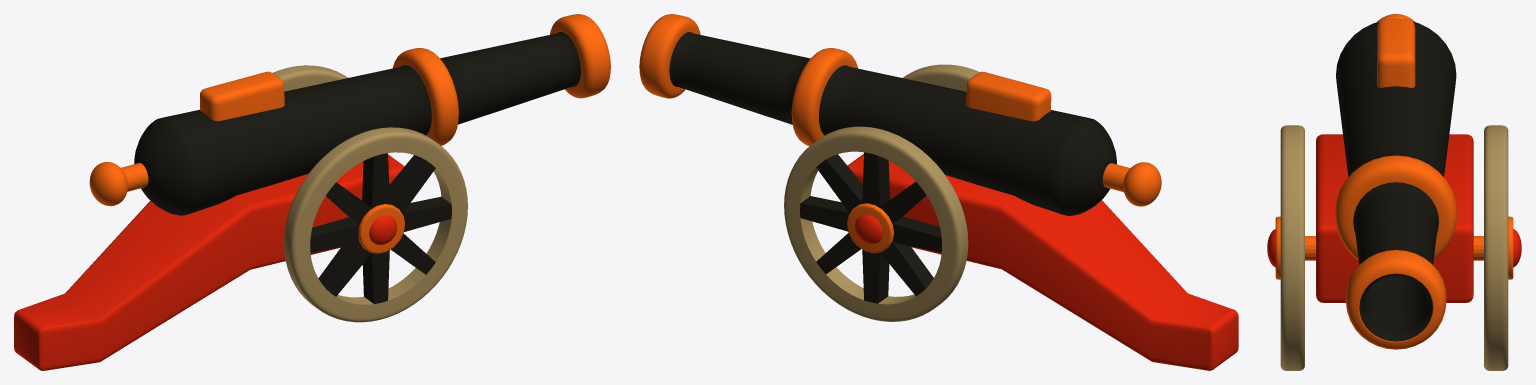
The picture shows the model from 3 angles, left to right: view 1: azimuth 30°, elevation 25°; view 2: azimuth 150°, elevation 25°; view 3: azimuth 270°, elevation 25°; orthographic projection. The views are drawn at different scales.
Parts seen in each view (by area): view 1: Cylinder101, Box032, Tube044, Group140, Group142, Box033, Sphere106, Cylinder099, Tube045, Sphere104; view 2: Cylinder101, Box032, Tube045, Group141, Group142, Box033, Sphere106, Tube044, Cylinder100, Sphere105; view 3: Cylinder101, Box032, Group142, Tube044, Tube045, Box033, Cylinder099, Cylinder100, Sphere104, Sphere105.
Boxes of the visible parts, x1,y1,x2,y2 form: Cylinder101: (134, 32, 580, 215); Box032: (14, 154, 404, 370); Tube044: (284, 127, 467, 322); Group140: (310, 153, 451, 303); Group142: (392, 14, 610, 145); Box033: (200, 71, 284, 121); Sphere106: (89, 162, 148, 206); Cylinder099: (358, 204, 404, 253); Tube045: (273, 65, 347, 91); Sphere104: (369, 215, 396, 244); Cylinder101: (669, 32, 1116, 215); Box032: (847, 154, 1238, 370); Tube045: (784, 126, 968, 321); Group141: (800, 152, 941, 303); Group142: (639, 14, 857, 146); Box033: (966, 71, 1051, 121); Sphere106: (1102, 162, 1161, 206); Tube044: (903, 64, 979, 91); Cylinder100: (847, 203, 894, 253); Sphere105: (855, 214, 882, 244); Cylinder101: (1336, 21, 1456, 341); Box032: (1316, 134, 1473, 302); Group142: (1335, 155, 1457, 349); Tube044: (1280, 125, 1304, 370); Tube045: (1484, 125, 1508, 370); Box033: (1377, 19, 1415, 87); Cylinder099: (1275, 216, 1315, 279); Cylinder100: (1473, 216, 1513, 279); Sphere104: (1267, 229, 1275, 267); Sphere105: (1513, 229, 1521, 267).
Bounding box in the file's own units: 64.17 × 24.5 × 20.72.
